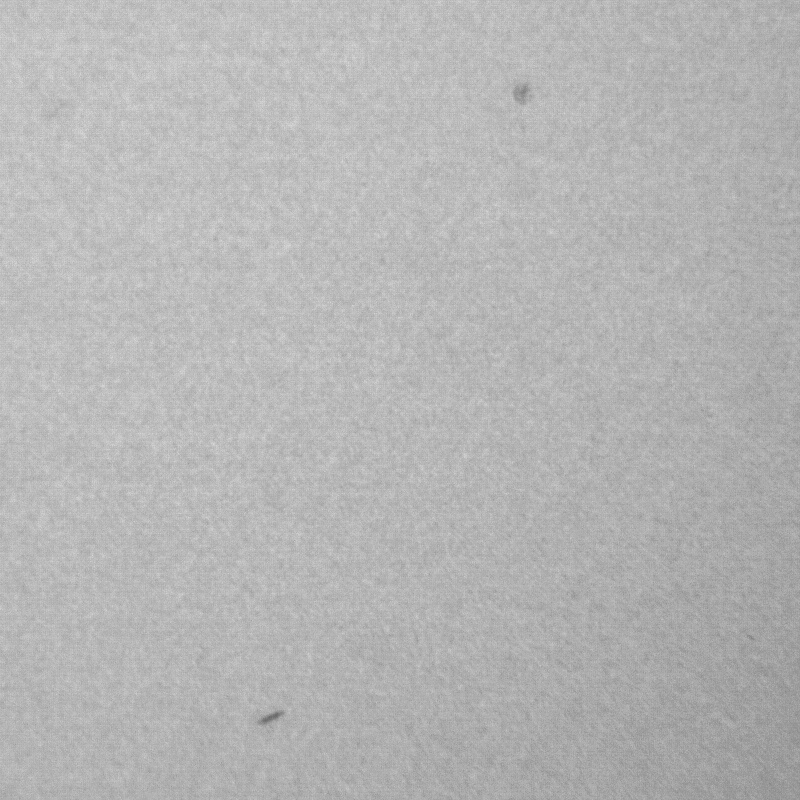defect: (256, 714, 282, 730), (515, 81, 531, 105)
